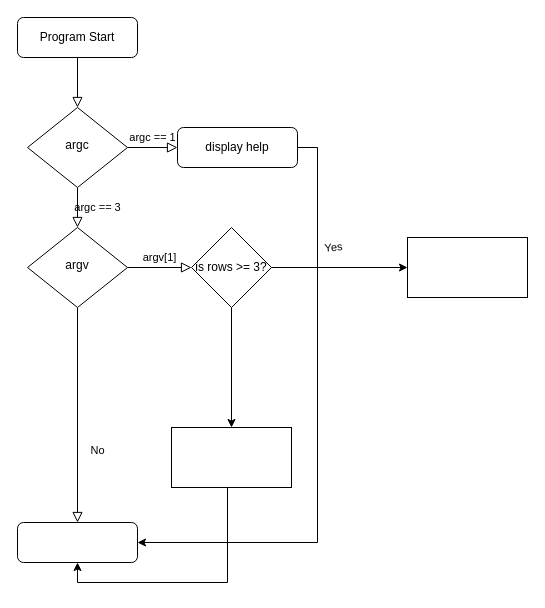
Image size: 545x608. Some labels were removed from this diagram. The box of each missing label's shape, as (x1, y1, x2, y2) in pixels:
Print "Row needs to be value greater than 3": (170, 426, 292, 488)
Program End: (16, 522, 138, 562)
Start Game: (406, 236, 528, 298)
